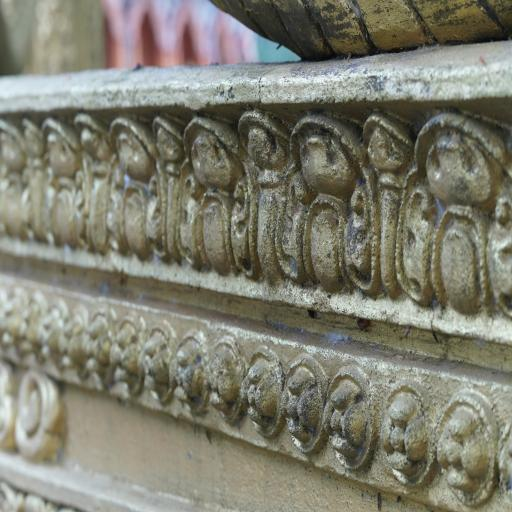hoa: (433, 396, 497, 505), (374, 380, 432, 487), (324, 362, 376, 474), (237, 337, 282, 447), (281, 346, 321, 455), (170, 320, 210, 419), (139, 306, 174, 413), (106, 301, 142, 403), (75, 294, 111, 392), (207, 328, 240, 417), (52, 295, 87, 375), (38, 290, 71, 370), (14, 291, 40, 364), (0, 283, 25, 357)
la: (378, 101, 512, 349), (257, 126, 379, 310), (162, 122, 252, 271), (80, 127, 162, 258), (28, 122, 92, 249), (0, 118, 44, 243)
